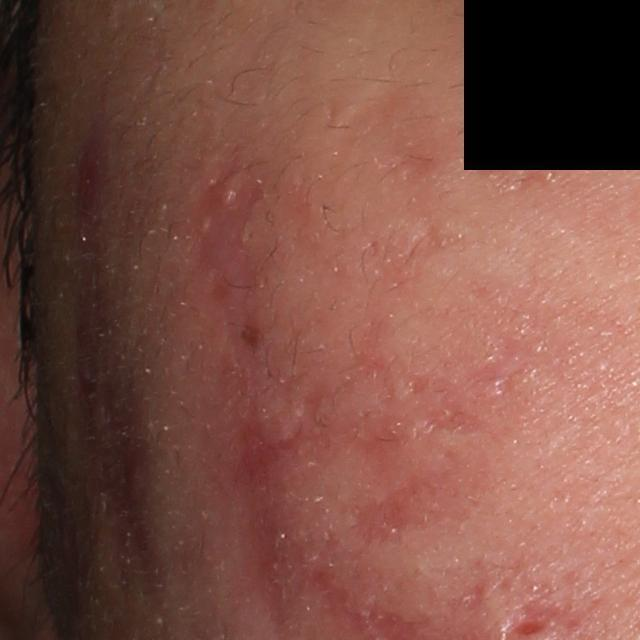atrophic_scar: (190, 175, 353, 636), (405, 371, 485, 444), (497, 616, 554, 640)
